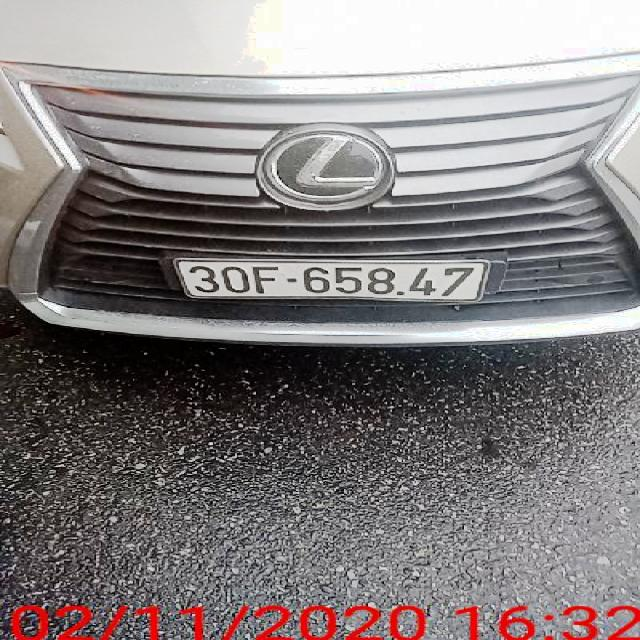license_plate: (180, 263, 490, 301)
